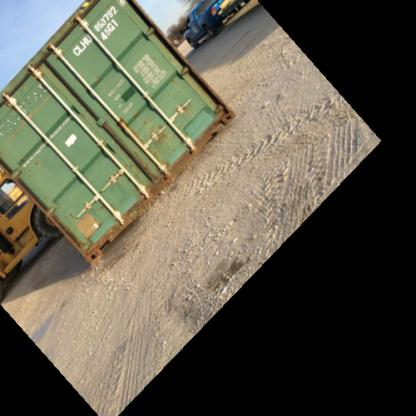Damage: (140, 120, 178, 160), (68, 217, 104, 255), (33, 49, 53, 73), (165, 75, 184, 96), (27, 154, 44, 174)
